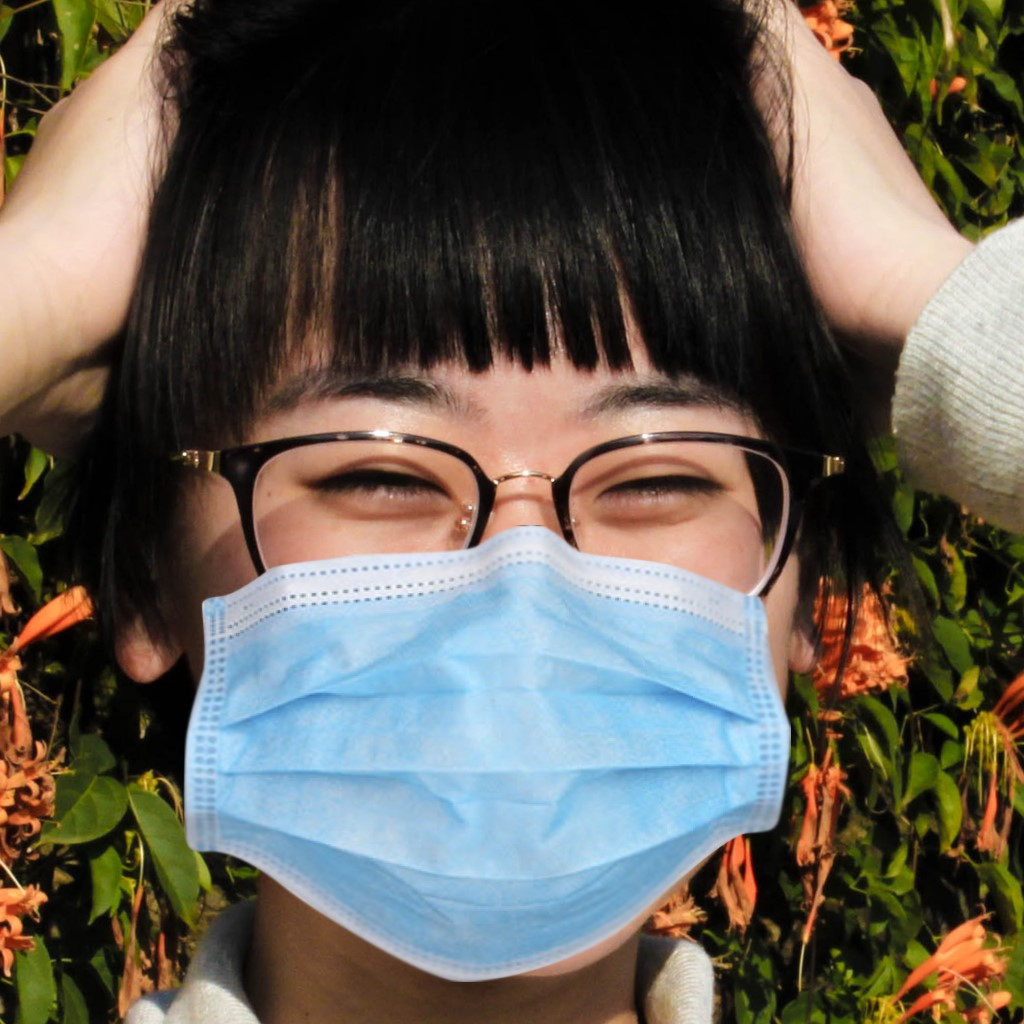con_mascara: (161, 244, 810, 970)
